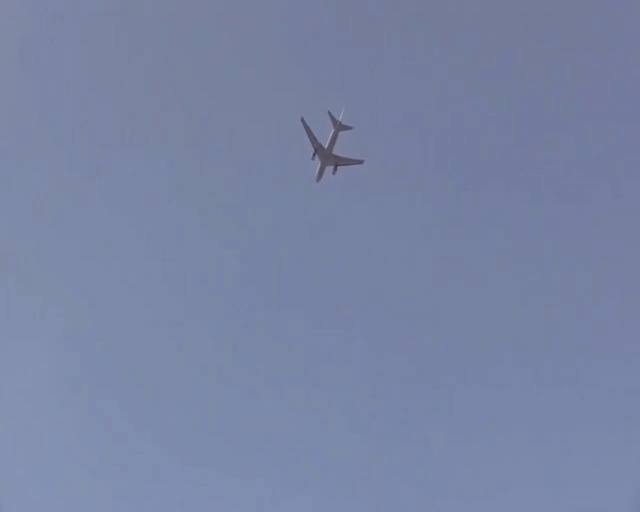AIRPLANE: (301, 108, 365, 182)
